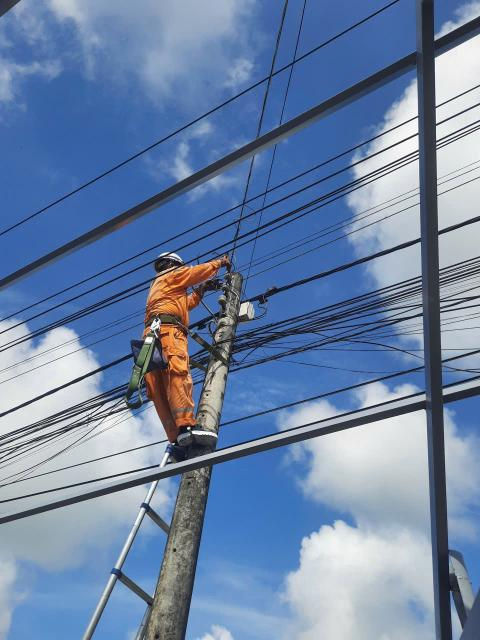gloves: (187, 277, 227, 297), (212, 250, 239, 270)
harness: (141, 306, 195, 335)
helmet: (149, 244, 195, 277)
shoes: (172, 421, 218, 448)
